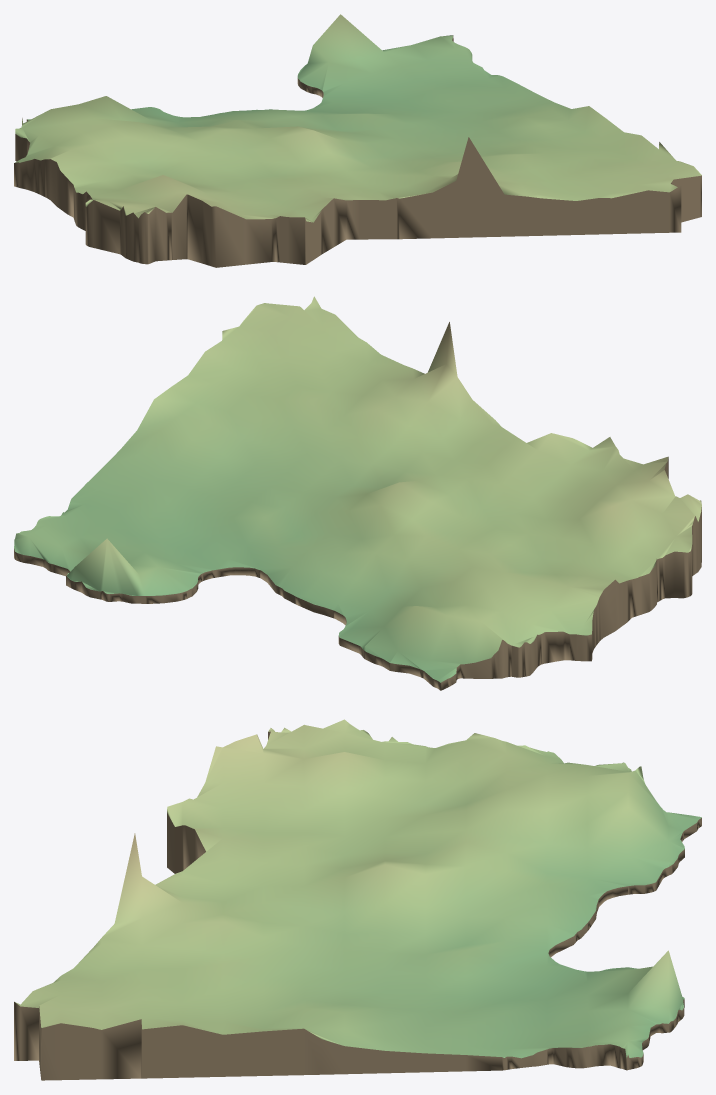
Rendered from LBY.glb.
3 renders of one model, top to bottom at view 1: azimuth 30°, elevation 25°; view 2: azimuth 150°, elevation 25°; view 3: azimuth 270°, elevation 25°, orthographic. The views are drawn at different scales.
Visible parts, largest first — view 1: LBY; view 2: LBY; view 3: LBY.
Part boxes in pixels (x1,y1,x2,y2): LBY: [14, 14, 701, 267]; LBY: [14, 296, 701, 690]; LBY: [14, 719, 701, 1080].
Bounding box in the file's own units: 1.41 × 0.2766 × 1.35.
